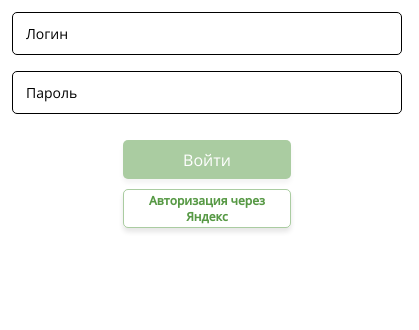
Test: Тестирование страницы /signin › Проверка валидации полей
The image size is (419, 330).
Step 1. Type "логин" into the field with test id "login" → [207, 34], box [12,12,402,55]
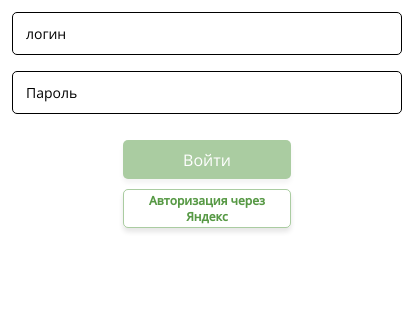
Step 2. Type "пароль" into the password field with test id "password" → [207, 92], box [12,71,402,114]
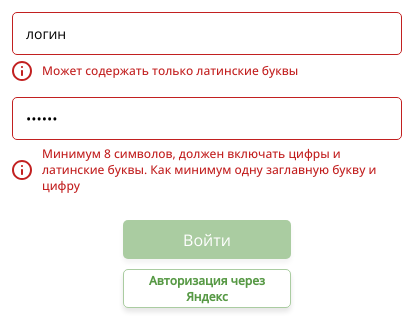
Expected: the button "Войти" is disabled, [123,220,291,259]
Expected: the text "Может содержать только латинские буквы" is shown, [12,61,298,81]
Expected: the text "Минимум 8 символов, должен включать цифры и латинские буквы. Как минимум одну заглавную букву и цифру" is shown, [42,145,376,194]
